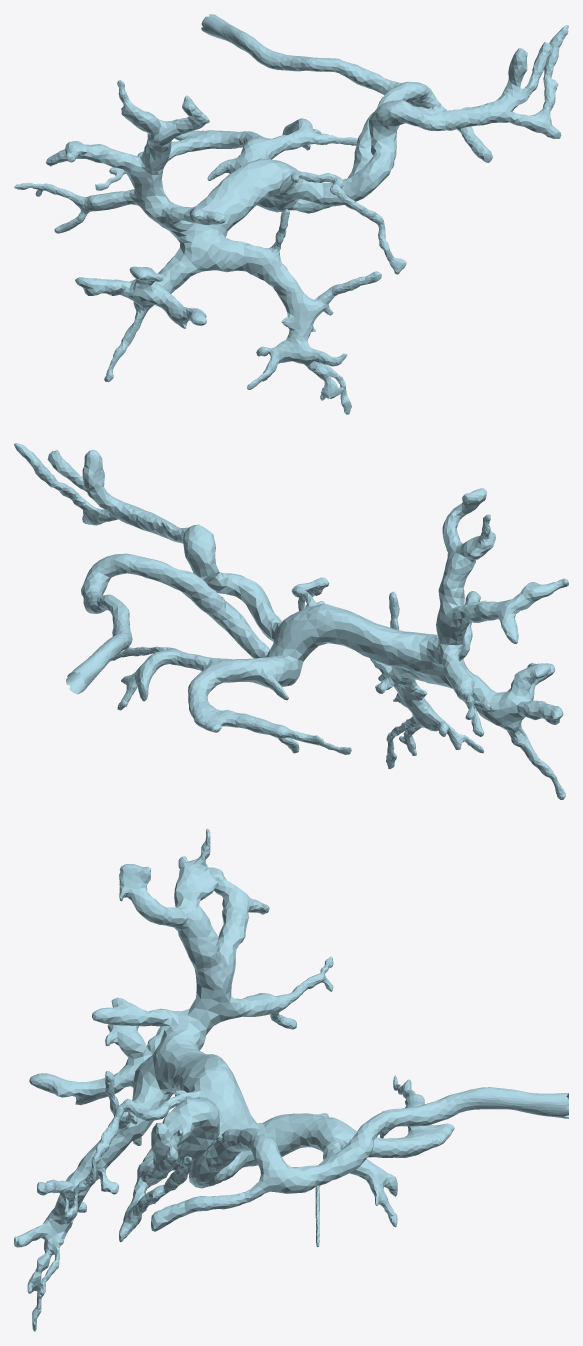
File: portalvein.obj
3 views of the same model, one above another, from view 1: azimuth 30°, elevation 25°; view 2: azimuth 150°, elevation 25°; view 3: azimuth 270°, elevation 25° (orthographic). The views are drawn at different scales.
Parts seen in each view (by area): view 1: grp1; view 2: grp1; view 3: grp1.
Part boxes in pixels (x1,y1,x2,y2): grp1: [14, 14, 568, 414]; grp1: [14, 443, 568, 799]; grp1: [14, 828, 568, 1331].
Size of the model in its own units: 256 by 156 by 194.
